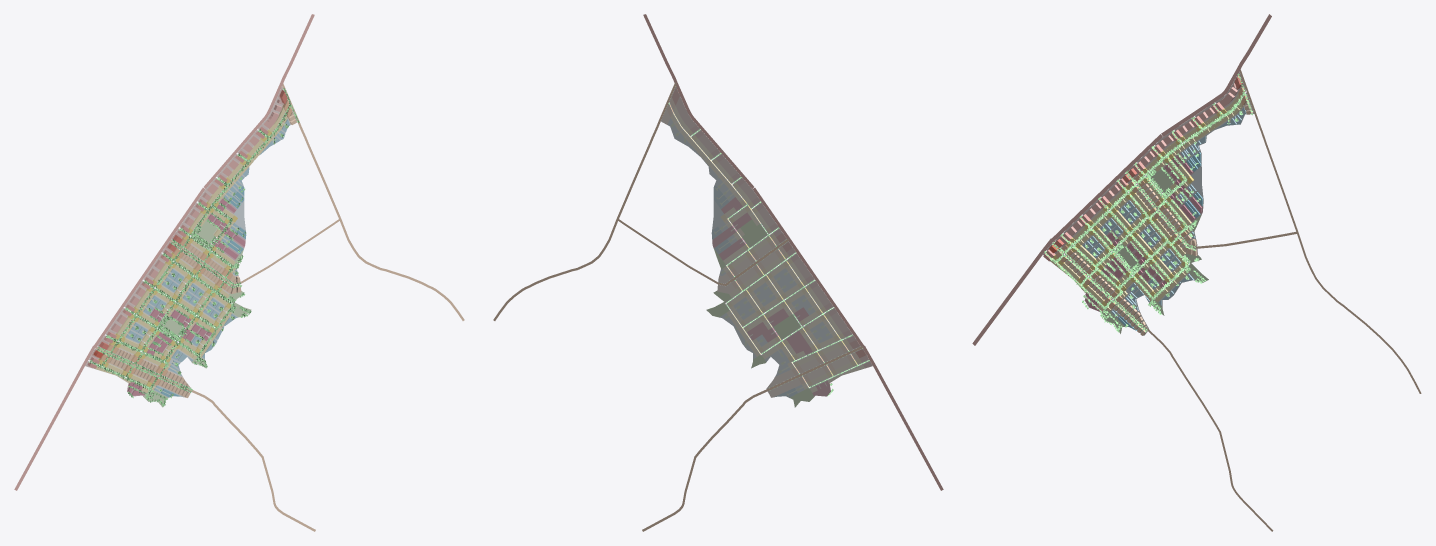
The model's file is building_max.gltf.
3 renders of one model, left to right at view 1: azimuth 30°, elevation 25°; view 2: azimuth 150°, elevation 25°; view 3: azimuth 330°, elevation 25°, orthographic.
Visible parts, largest first — view 1: obj_tri; view 2: obj_tri; view 3: obj_tri.
Boxes of the visible parts, box(x1,y1,x2,y2) form: obj_tri: box(14, 14, 464, 531); obj_tri: box(493, 14, 943, 531); obj_tri: box(972, 14, 1421, 531).
Bounding box in the file's own units: 2146 × 2361 × 23.33.
